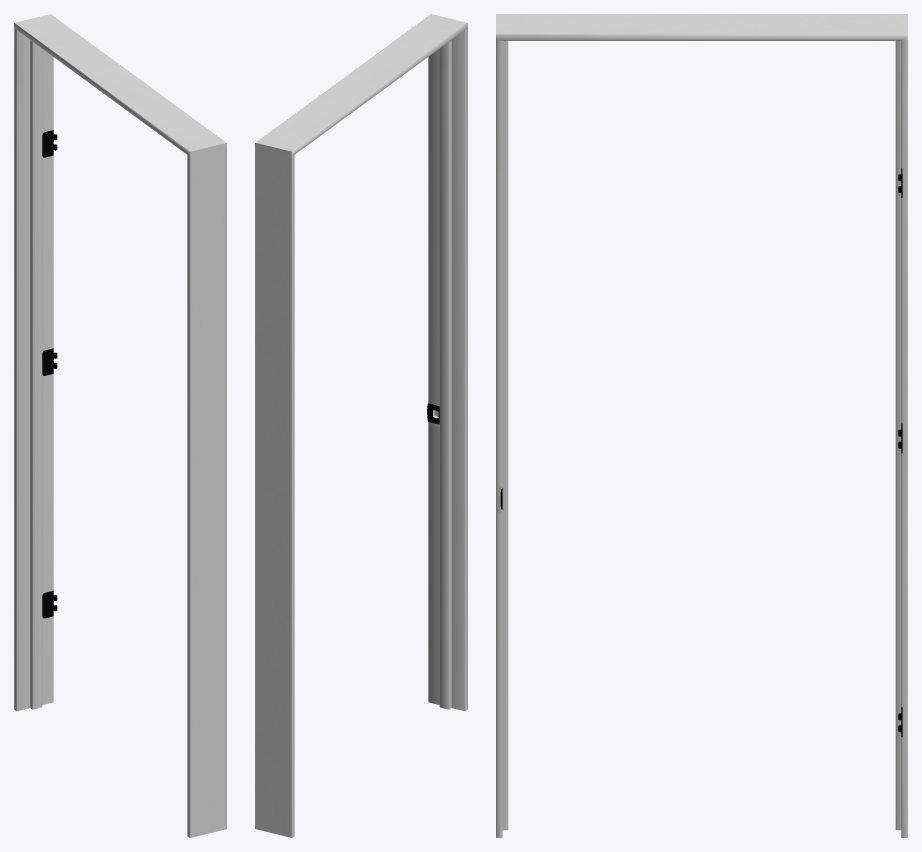
File: visual_Door_left_frame_four_panel_painted.dae
3 views of the same model, side by side, from view 1: azimuth 30°, elevation 25°; view 2: azimuth 150°, elevation 25°; view 3: azimuth 270°, elevation 25° (orthographic). The views are drawn at different scales.
Parts seen in each view (by area): view 1: visual_Door_left_frame_four_panel_painted; view 2: visual_Door_left_frame_four_panel_painted; view 3: visual_Door_left_frame_four_panel_painted.
Part boxes in pixels (<box>): visual_Door_left_frame_four_panel_painted: <box>14,14,226,837</box>; visual_Door_left_frame_four_panel_painted: <box>255,14,467,837</box>; visual_Door_left_frame_four_panel_painted: <box>496,14,907,837</box>.
Bounding box in the file's own units: 0.1248 × 0.9521 × 2.05.
Materials: 1 (1 with a texture image).
